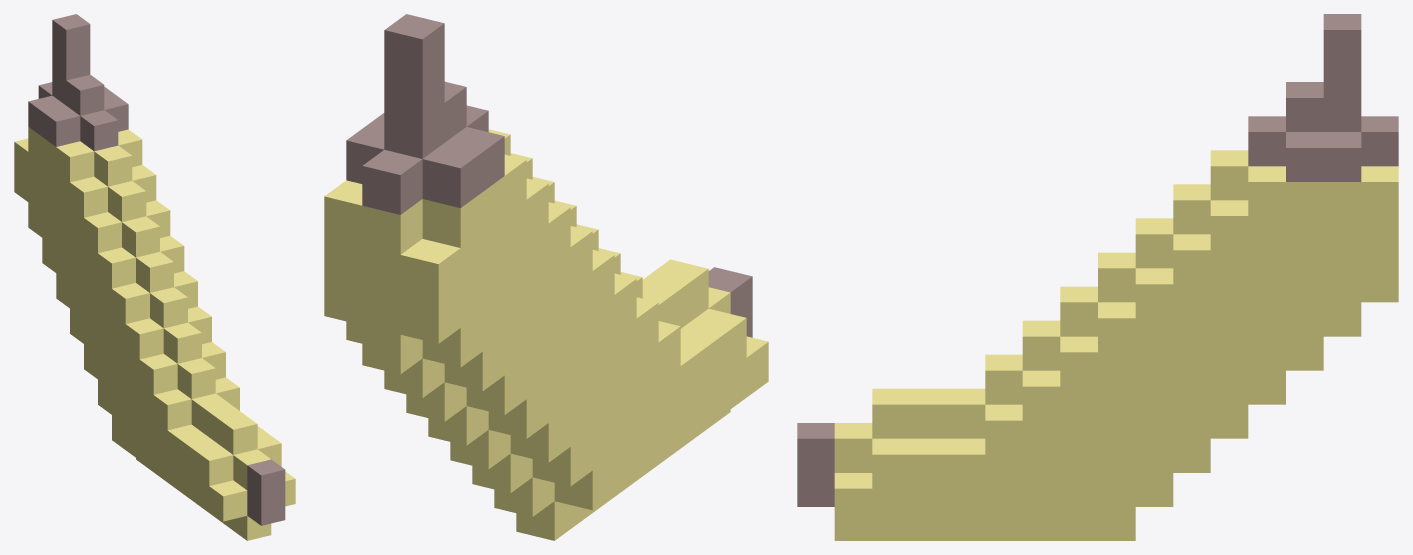
Rendered from Platano.fbx.
3 views of the same model, side by side, from view 1: azimuth 30°, elevation 25°; view 2: azimuth 150°, elevation 25°; view 3: azimuth 270°, elevation 25° (orthographic). The views are drawn at different scales.
Visible parts, largest first — view 1: platano_3x15x16; view 2: platano_3x15x16; view 3: platano_3x15x16.
Part boxes in pixels (box(x1,y1,x2,y2)): platano_3x15x16: box(14, 14, 295, 540); platano_3x15x16: box(324, 14, 768, 540); platano_3x15x16: box(797, 14, 1398, 540).
Size of the model in its own units: 200 by 1000 by 1067.
